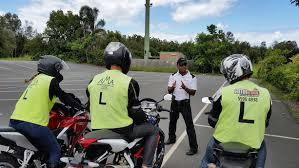helmet: (216, 50, 255, 80), (101, 38, 133, 69), (34, 53, 74, 76)
